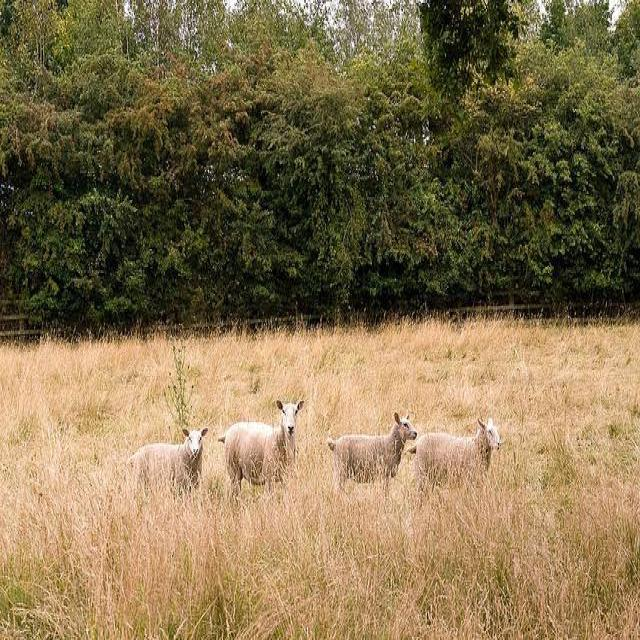Sheep: (216, 400, 307, 516), (405, 419, 497, 495), (327, 414, 417, 486), (126, 428, 208, 491)
